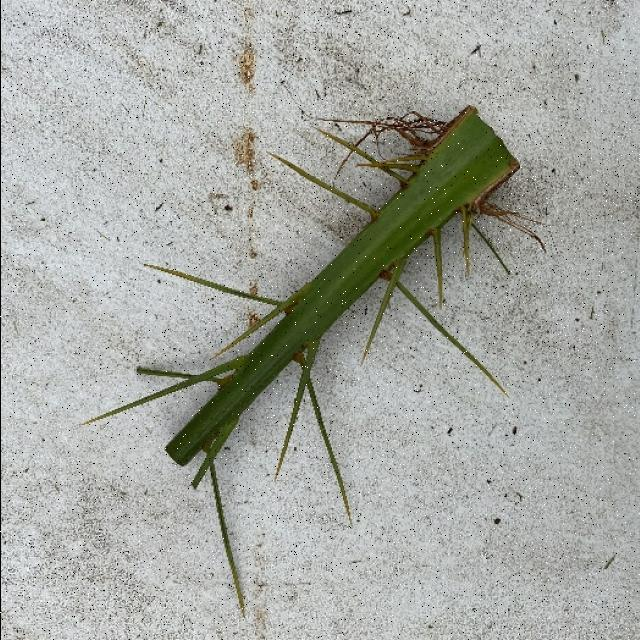organik: (117, 94, 533, 497)
